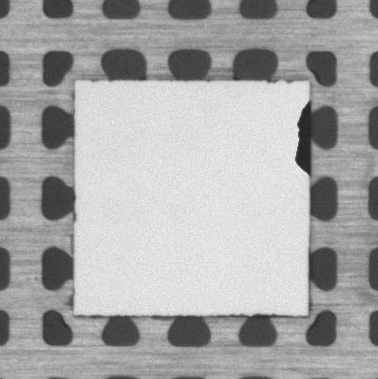DIE_BROKEN: (293, 99, 313, 179)
